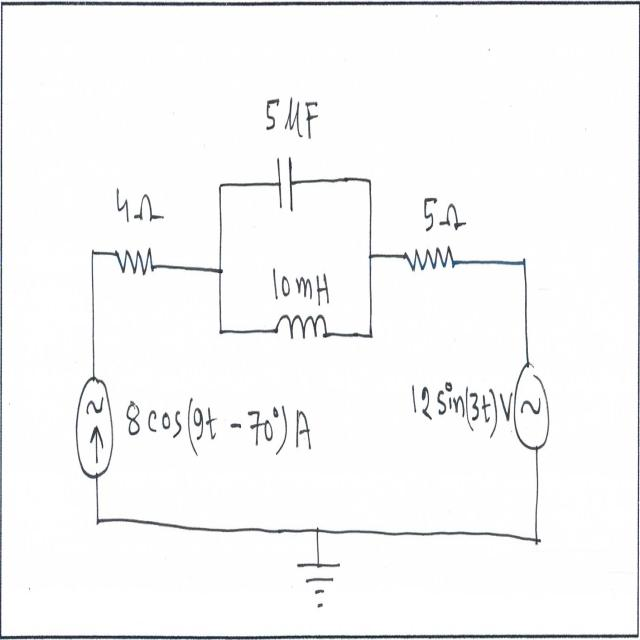ac_current: (511, 348, 555, 459)
capacitor: (272, 148, 296, 218)
current_source: (75, 366, 116, 484)
ground: (294, 551, 344, 616)
inductor: (274, 303, 333, 349)
resistor: (401, 237, 458, 282), (110, 240, 159, 290)
